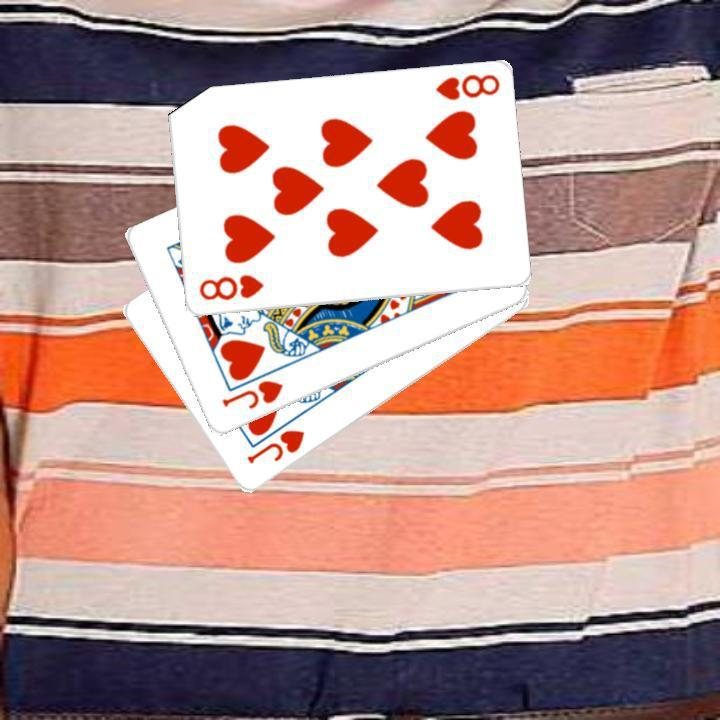8: (194, 270, 266, 303), (431, 70, 501, 103)
J: (242, 425, 307, 467), (217, 376, 285, 412)
